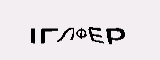Г: (86, 27, 99, 46), (58, 25, 70, 44)
Л: (43, 24, 59, 41)
С: (103, 27, 124, 47)
Э: (71, 25, 83, 44)
